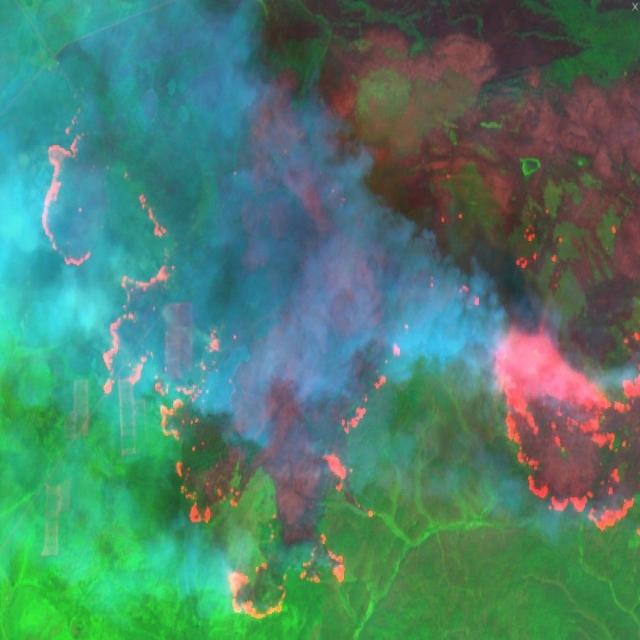fire: (100, 187, 242, 529), (484, 316, 640, 540), (224, 540, 357, 628), (38, 111, 98, 269)
